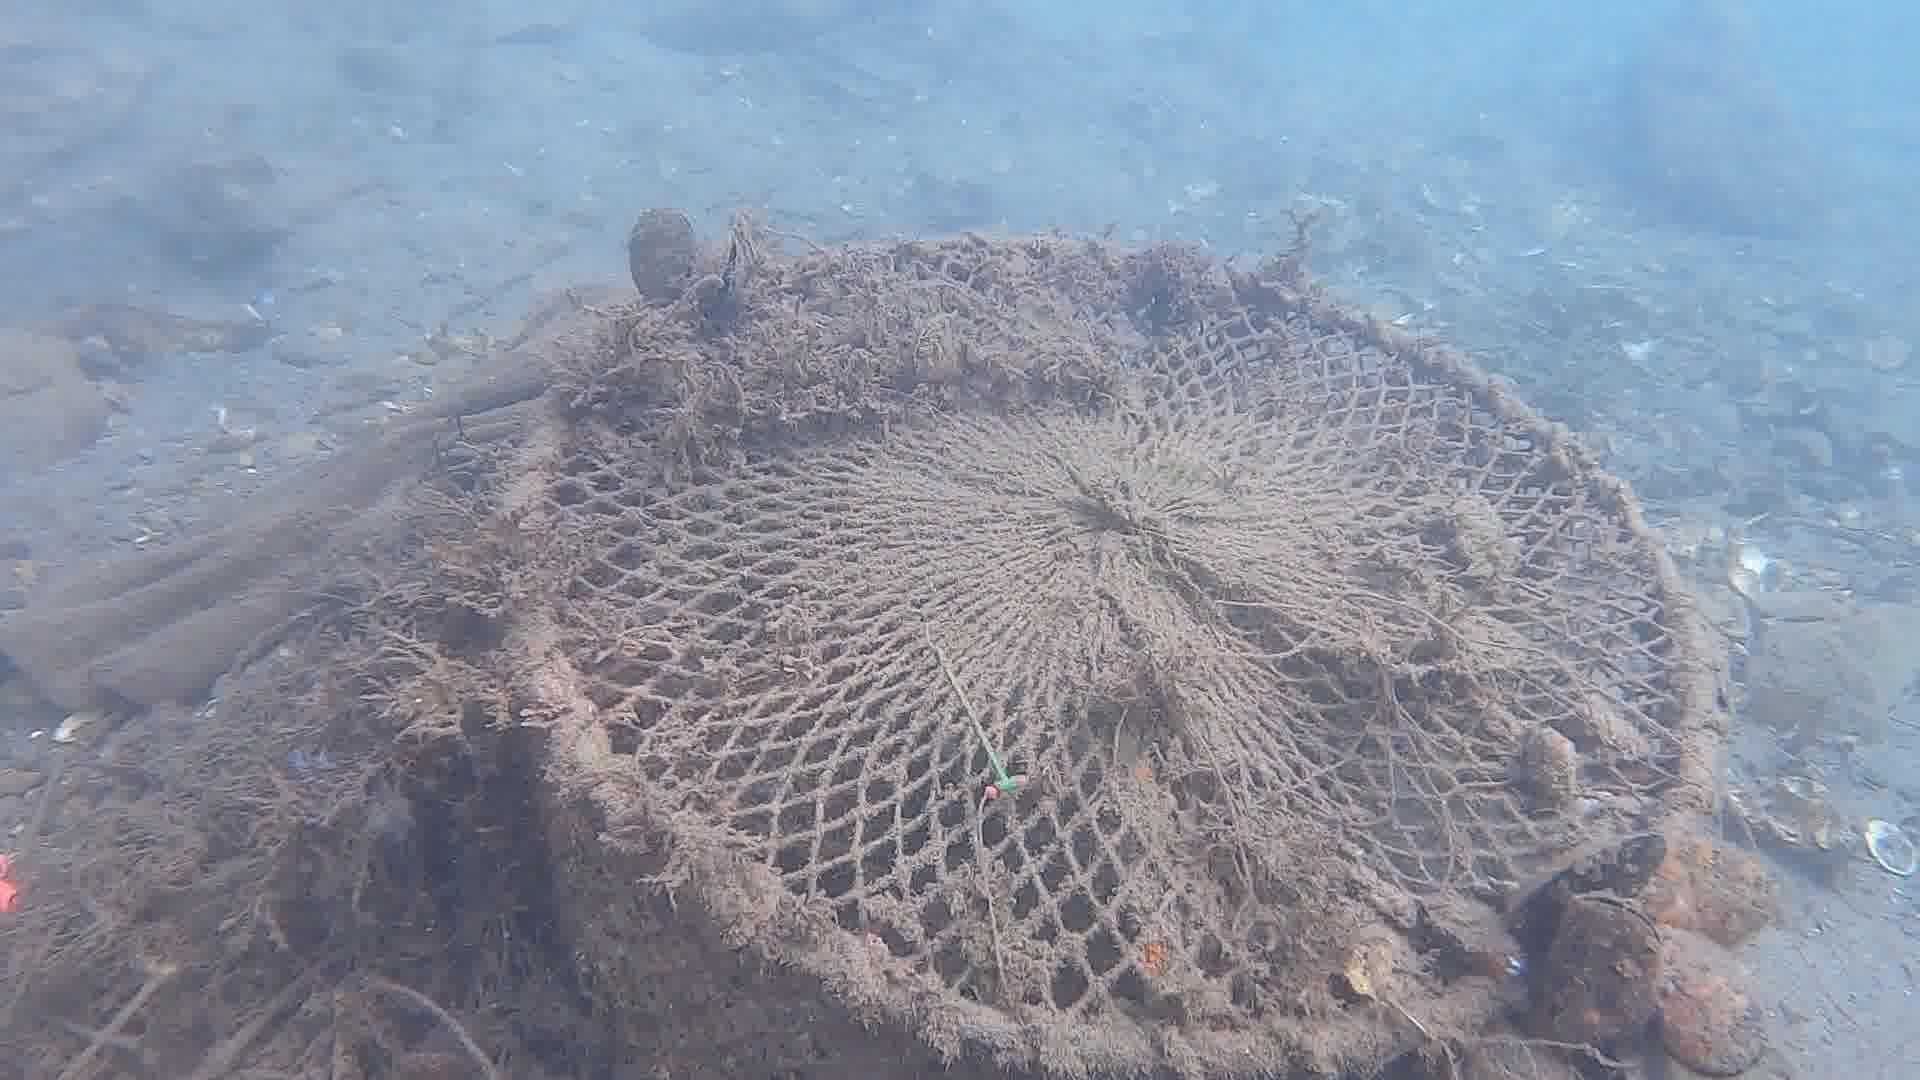circular fish trap: (501, 233, 1722, 1080)
